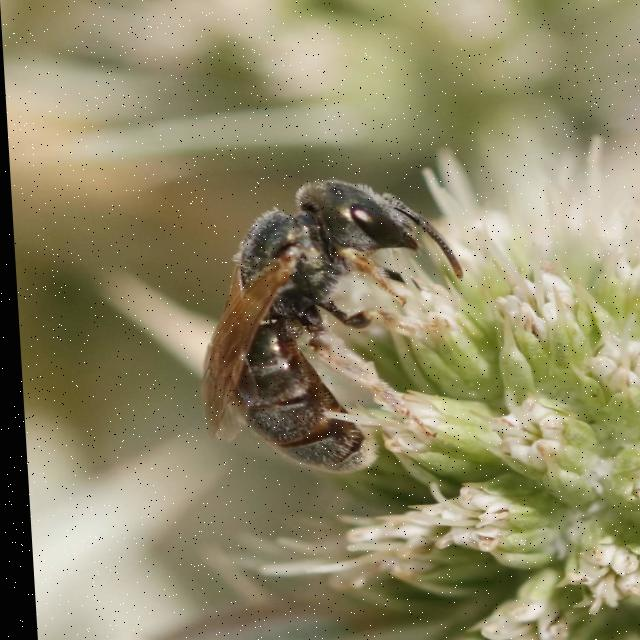Seladonia: (178, 168, 475, 500)
